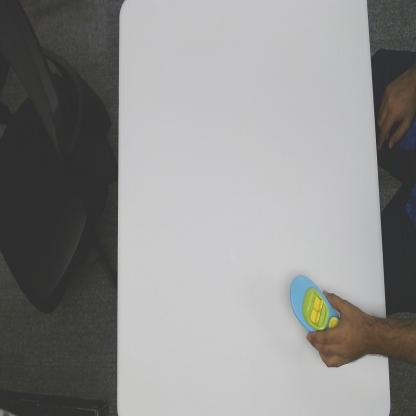Arm: (365, 312, 387, 359)
Boat: (288, 271, 340, 331)
Hand: (306, 288, 365, 371)
